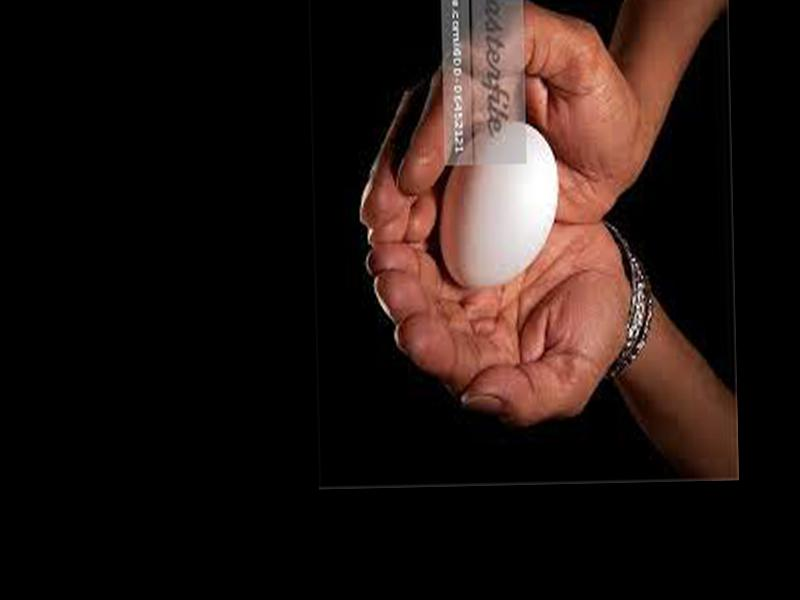Eggs: (436, 126, 559, 290)
